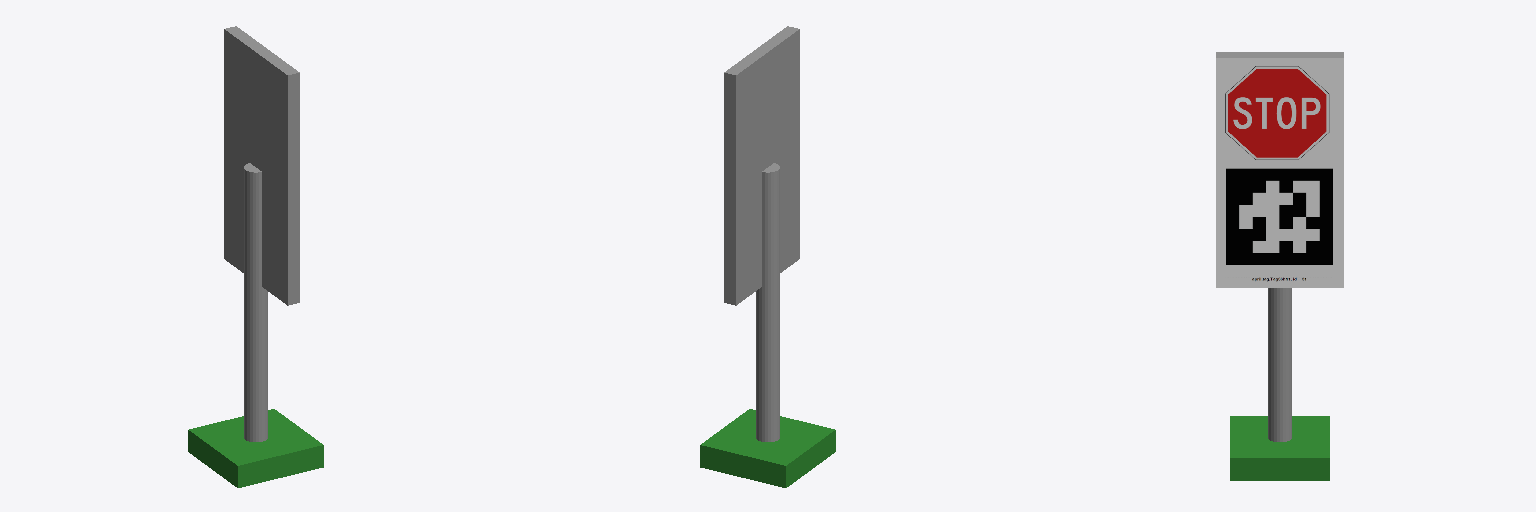
3 views of the same model, side by side, from view 1: azimuth 30°, elevation 25°; view 2: azimuth 150°, elevation 25°; view 3: azimuth 270°, elevation 25° (orthographic).
Parts seen in each view (by area): view 1: SketchUp.002_ID23, SketchUp_ID2, SketchUp.001_ID10; view 2: SketchUp.002_ID23, SketchUp_ID2, SketchUp.001_ID10; view 3: SketchUp.003_ID31, SketchUp_ID2, SketchUp.001_ID10, SketchUp.002_ID23.
Boxes of the visible parts, x1=… form: SketchUp.002_ID23: x1=224, y1=26, x2=299, y2=305; SketchUp_ID2: x1=188, y1=409, x2=323, y2=487; SketchUp.001_ID10: x1=244, y1=163, x2=267, y2=441; SketchUp.002_ID23: x1=724, y1=26, x2=799, y2=305; SketchUp_ID2: x1=700, y1=409, x2=835, y2=487; SketchUp.001_ID10: x1=756, y1=163, x2=779, y2=441; SketchUp.003_ID31: x1=1216, y1=58, x2=1343, y2=287; SketchUp_ID2: x1=1230, y1=416, x2=1329, y2=480; SketchUp.001_ID10: x1=1268, y1=288, x2=1291, y2=441; SketchUp.002_ID23: x1=1216, y1=52, x2=1343, y2=57.
Size of the model in its own units: 0.0508 by 0.2301 by 0.065.
Materials: 3 (1 with a texture image).